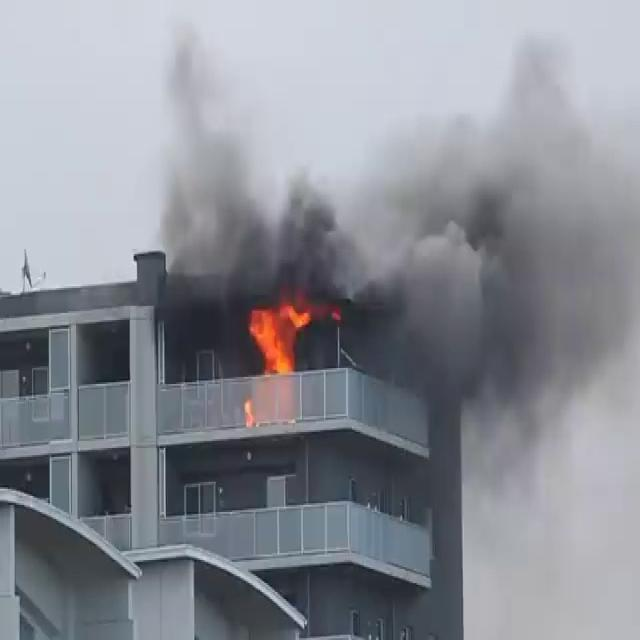Fire: (244, 294, 316, 376)
Smoke: (159, 68, 640, 400)
